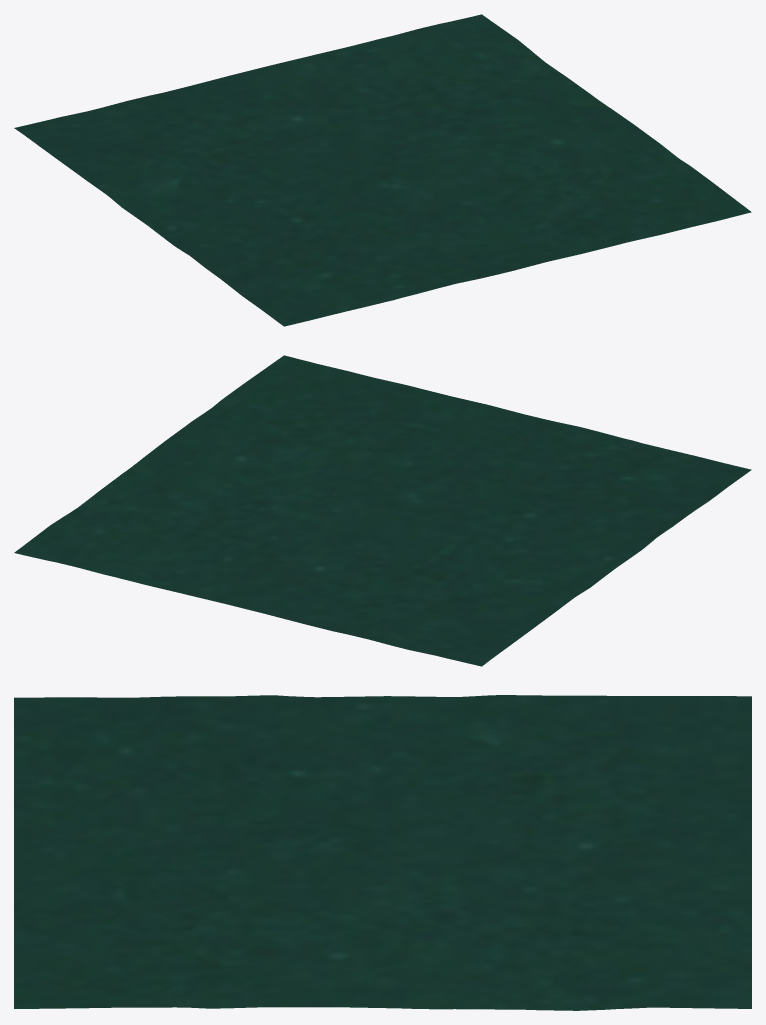
3 views of the same model, one above another, from view 1: azimuth 30°, elevation 25°; view 2: azimuth 150°, elevation 25°; view 3: azimuth 270°, elevation 25° (orthographic). The views are drawn at different scales.
Bounding box in the file's own units: 52.22 × 0.4176 × 52.22.
3 materials, 3 textured.
